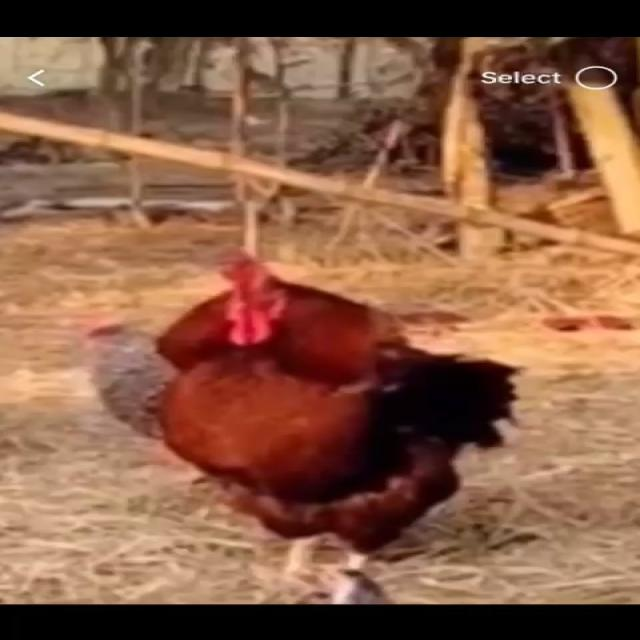wing flap: (67, 238, 530, 606)
